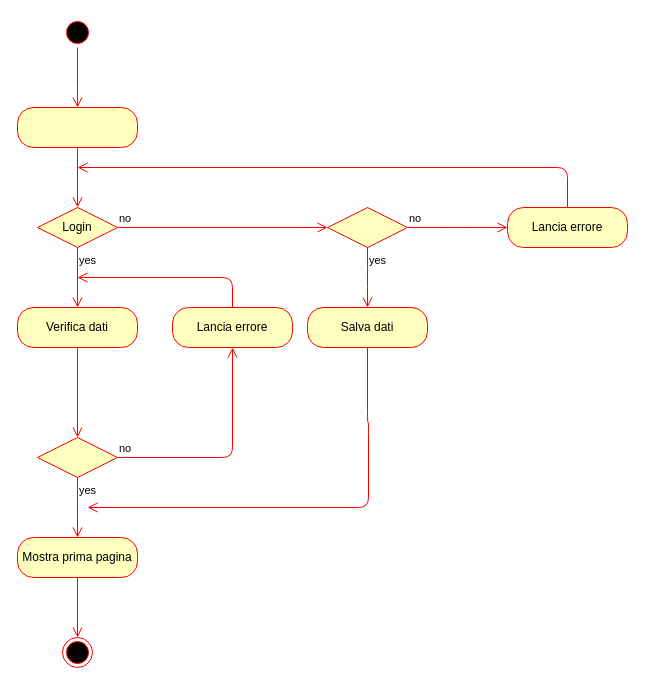
This 645x685 diagram has some shape labels left out. The shapes that lost their labels are listed below. From the top down, each one's centre as x and y in pixels, then its label:
point 77,127: Collegamento al sito
point 367,227: Register
point 77,457: Dati validi
